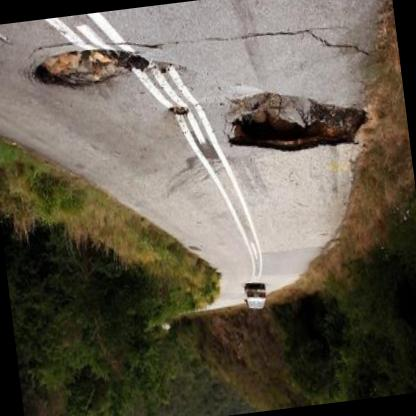pothole: (220, 78, 374, 166), (25, 38, 153, 99), (164, 102, 192, 121)
